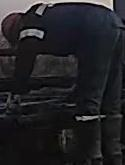helmet: (0, 10, 22, 46)
vest: (17, 1, 125, 64)
